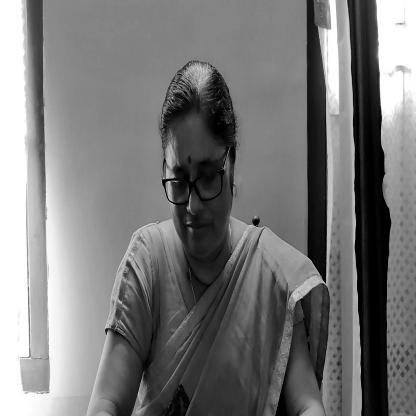Normal: (151, 59, 237, 251)
